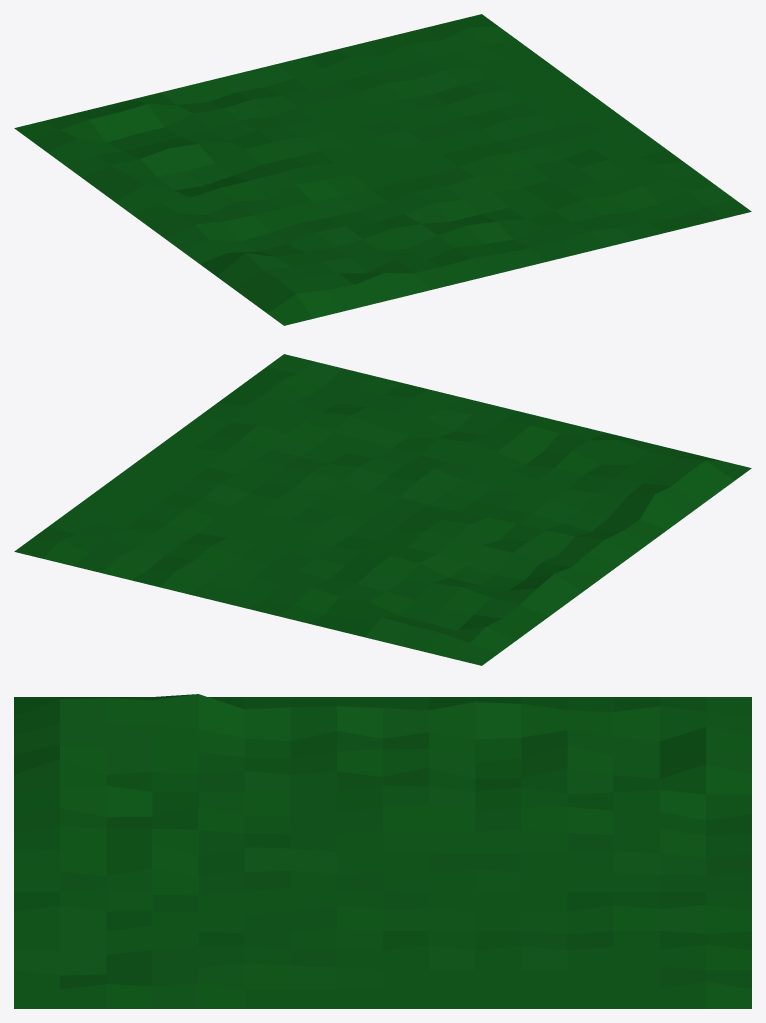
The model's file is GraveyardGroundFBX.fbx.
3 views of the same model, one above another, from view 1: azimuth 30°, elevation 25°; view 2: azimuth 150°, elevation 25°; view 3: azimuth 270°, elevation 25° (orthographic). The views are drawn at different scales.
Parts seen in each view (by area): view 1: Plane; view 2: Plane; view 3: Plane.
Boxes of the visible parts, bbox=[...] form: Plane: bbox=[14, 14, 751, 325]; Plane: bbox=[14, 354, 751, 665]; Plane: bbox=[14, 694, 751, 1008].
Bounding box in the file's own units: 80000 × 3487 × 80000.
Materials: 1 (1 with a texture image).
